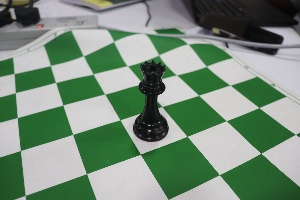black_queen: (128, 52, 175, 145)
